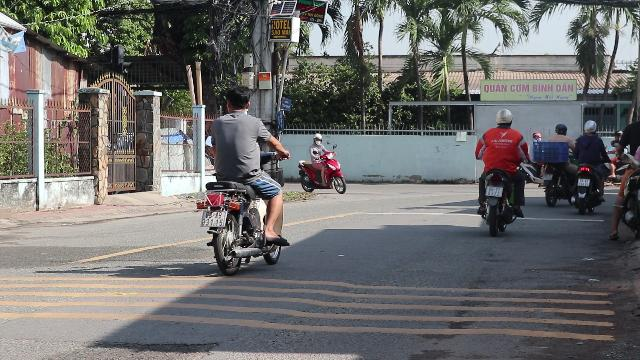helmet: (494, 108, 514, 128)
licenseplate: (201, 211, 225, 227), (486, 186, 502, 196)
motorcyclist: (196, 83, 290, 273), (472, 108, 528, 234)
nohelmet: (223, 86, 251, 114)
